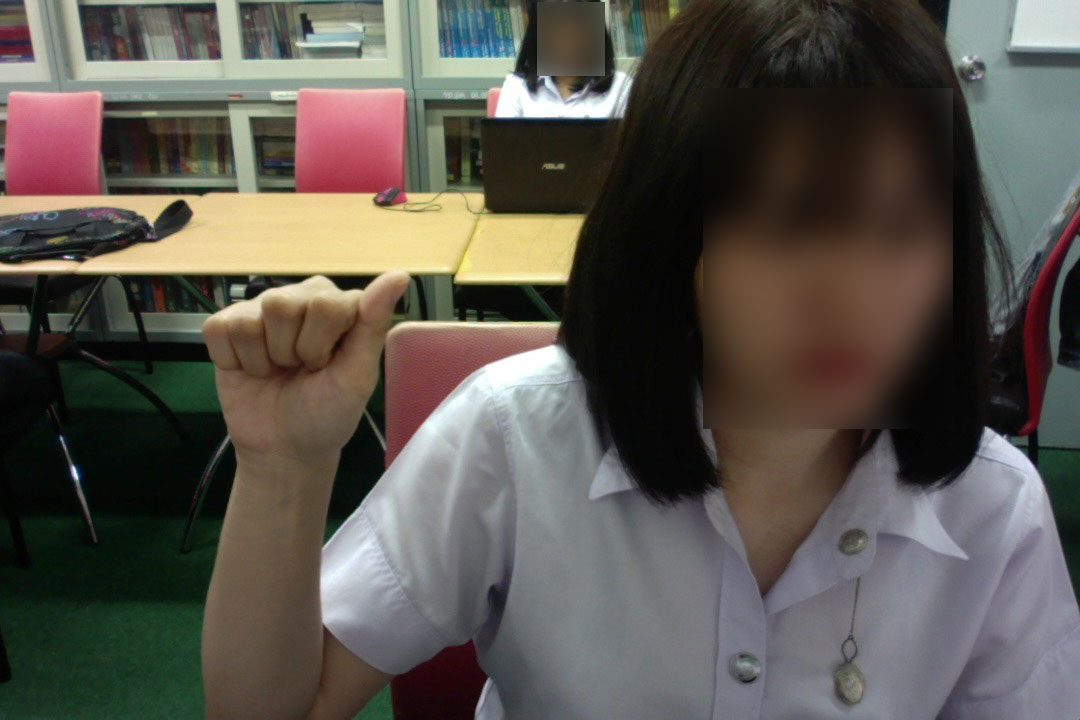or: (197, 257, 426, 458)
